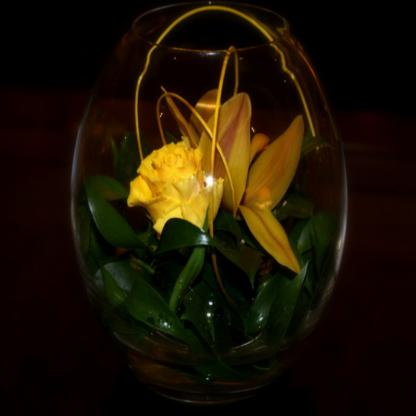vase: (64, 0, 353, 406)
